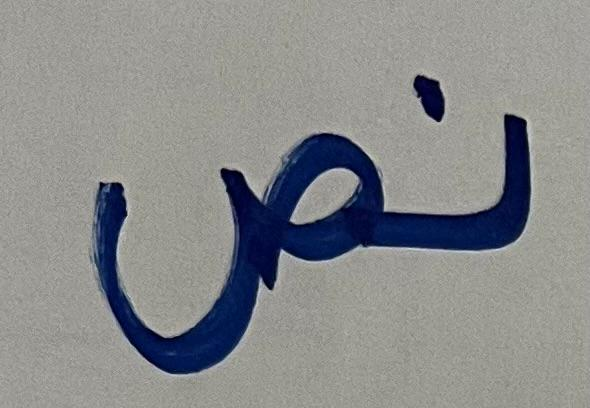noon: (391, 44, 560, 318)
sad: (72, 49, 389, 388)
